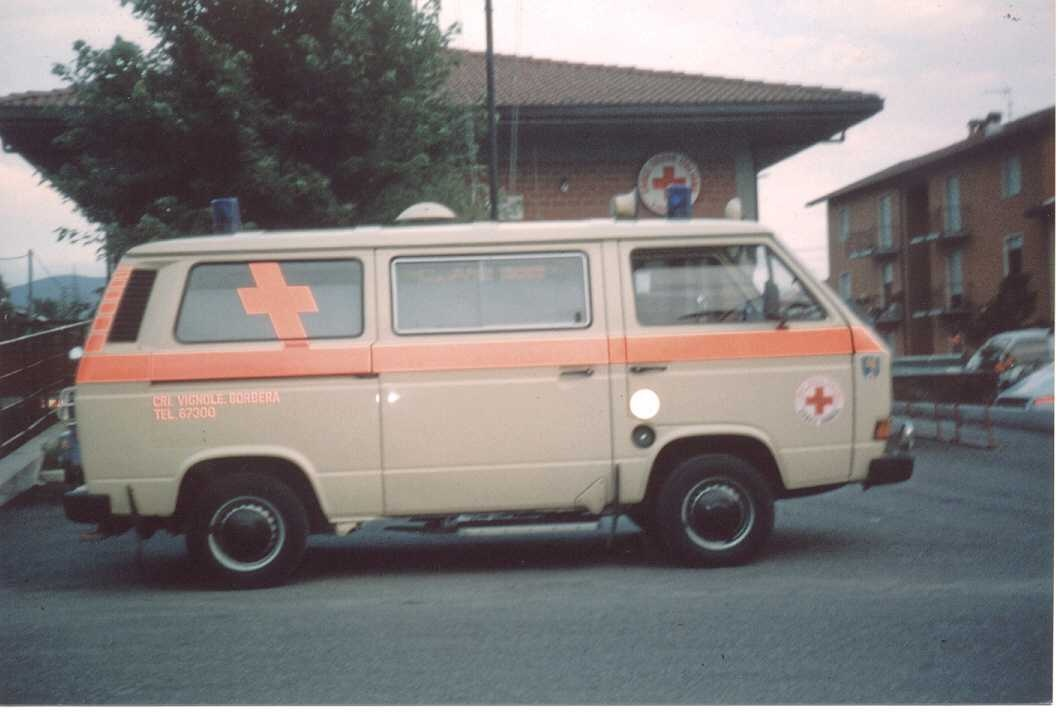Ambulance: (28, 169, 985, 614)
